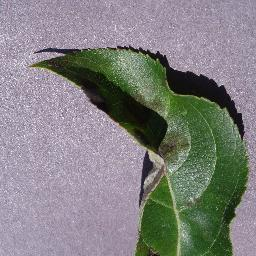apple healthy: (27, 44, 250, 255)
